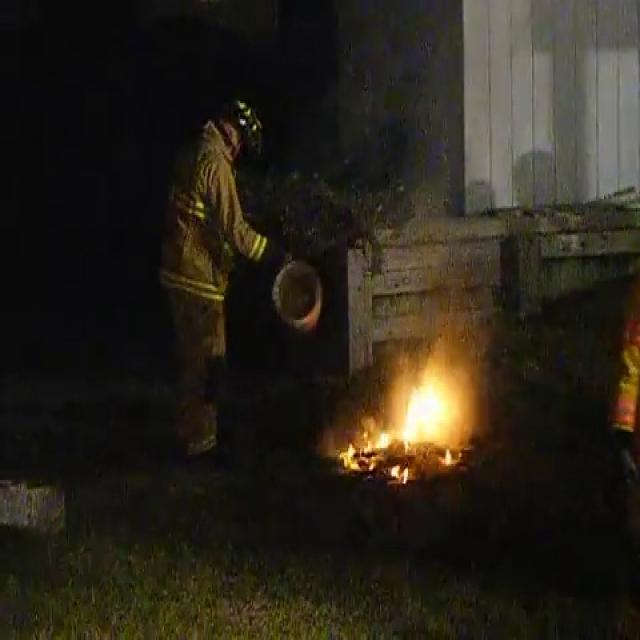Fire: (353, 360, 463, 477), (392, 366, 459, 462)
